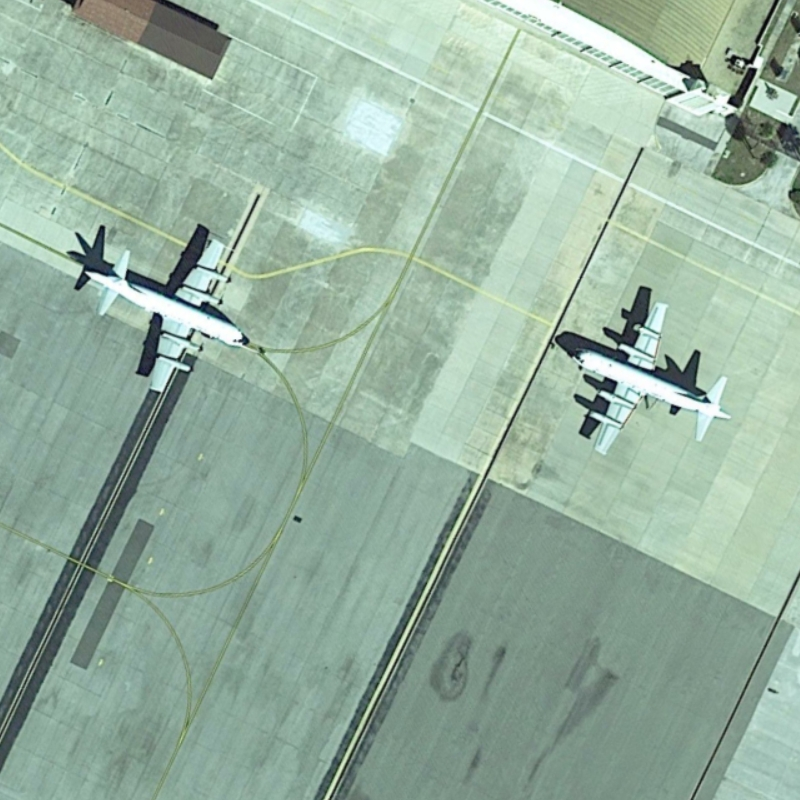A9: (562, 294, 738, 461), (81, 231, 254, 399)
